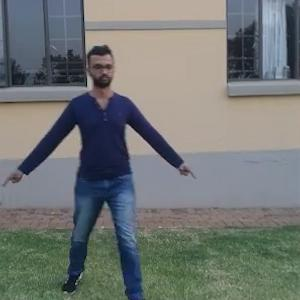land: (14, 46, 175, 284)
